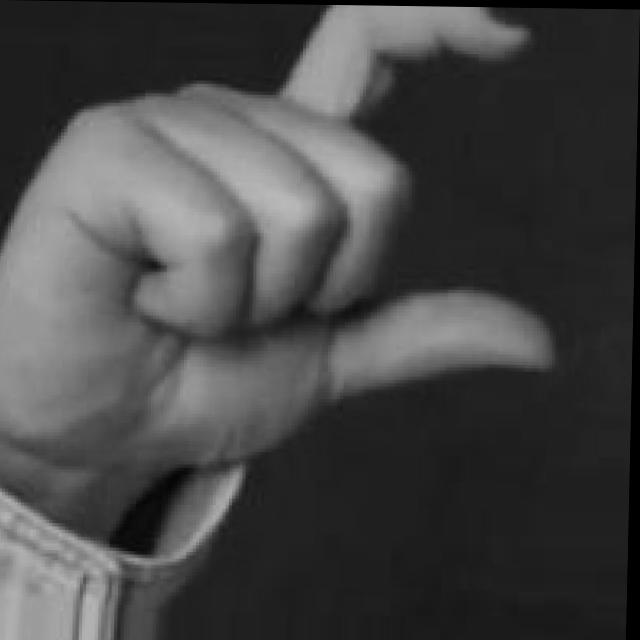C: (0, 0, 563, 476)
